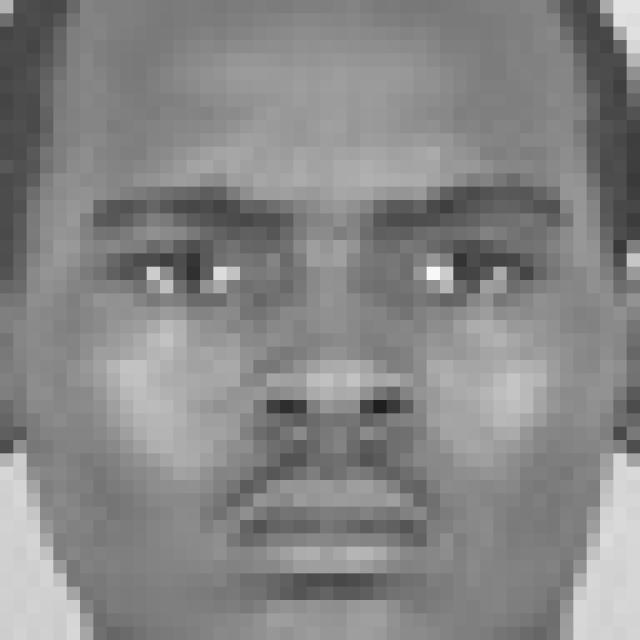neutral: (65, 166, 576, 600)
